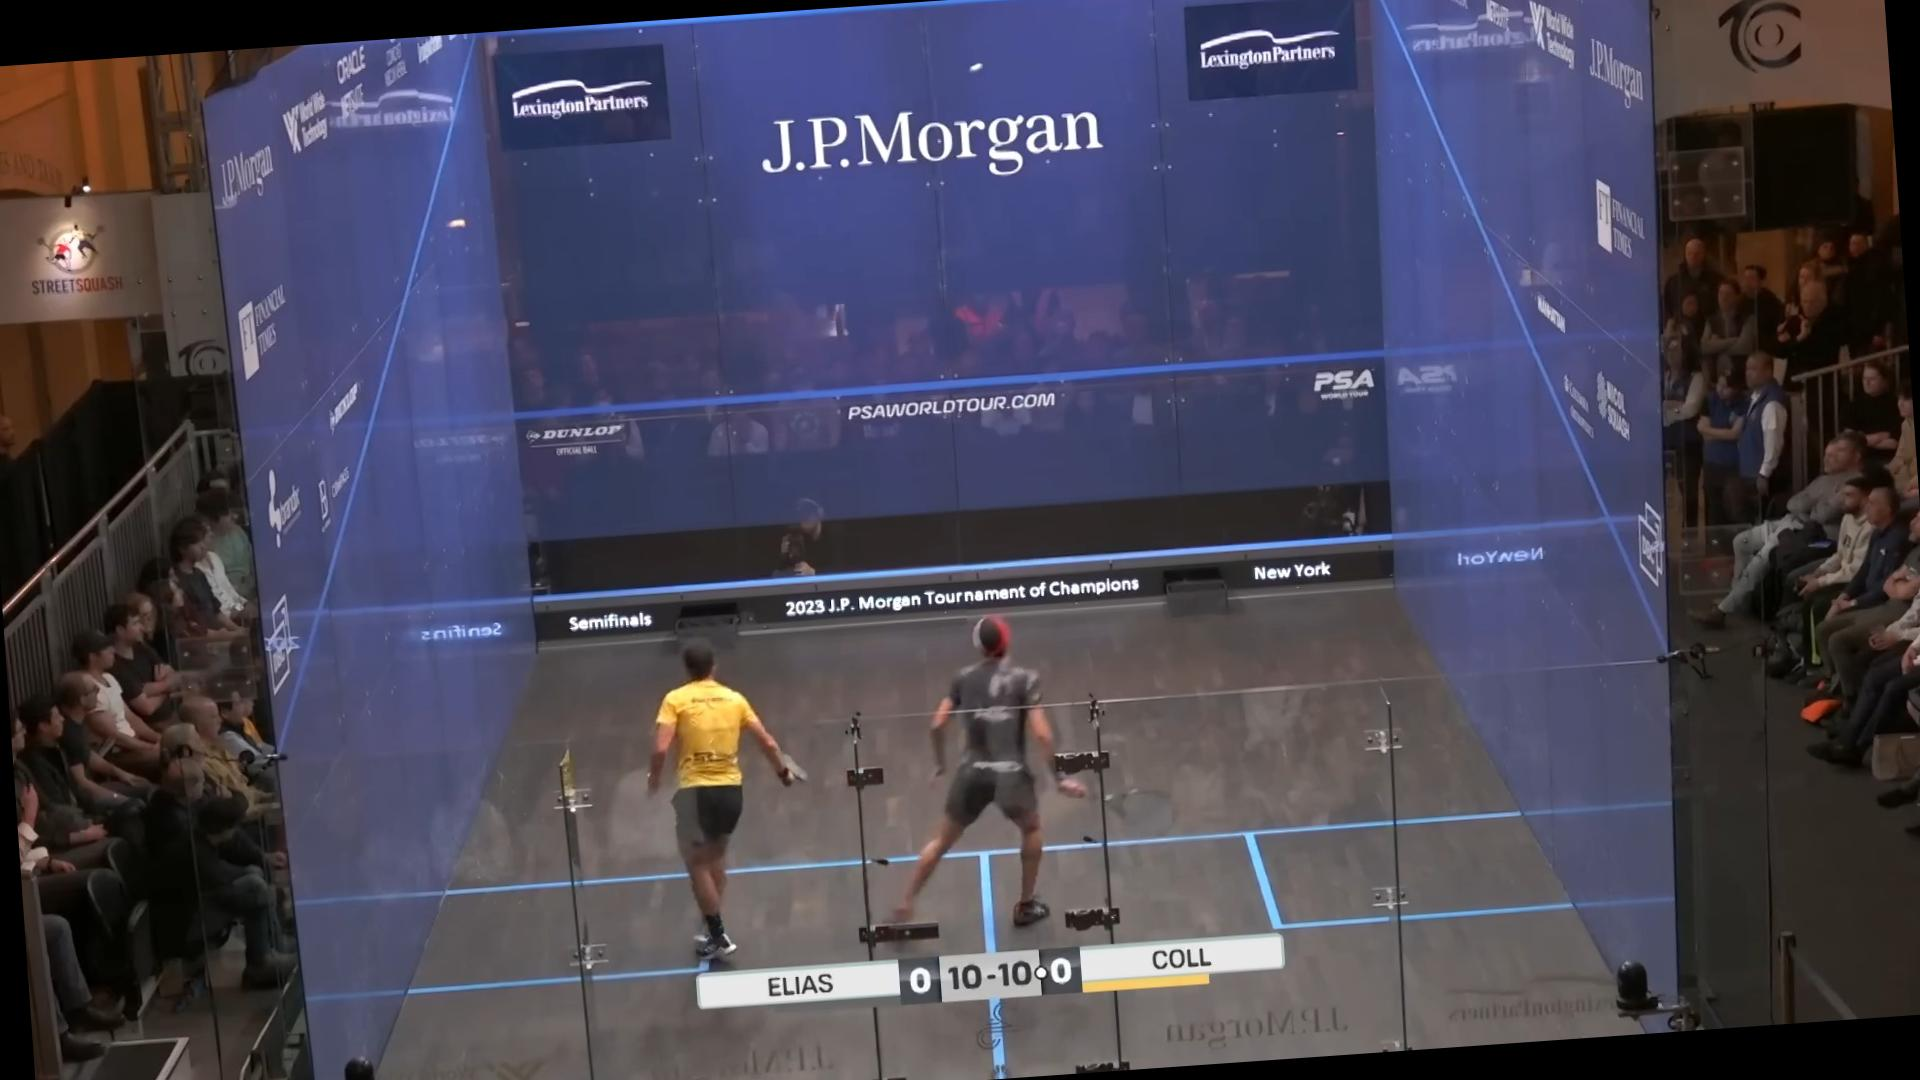Racket: (1089, 770, 1197, 848)
